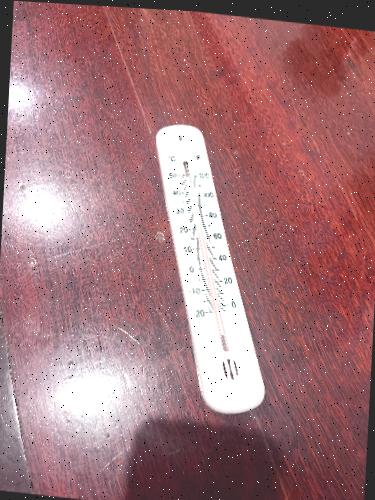thermo: (153, 115, 269, 415)
